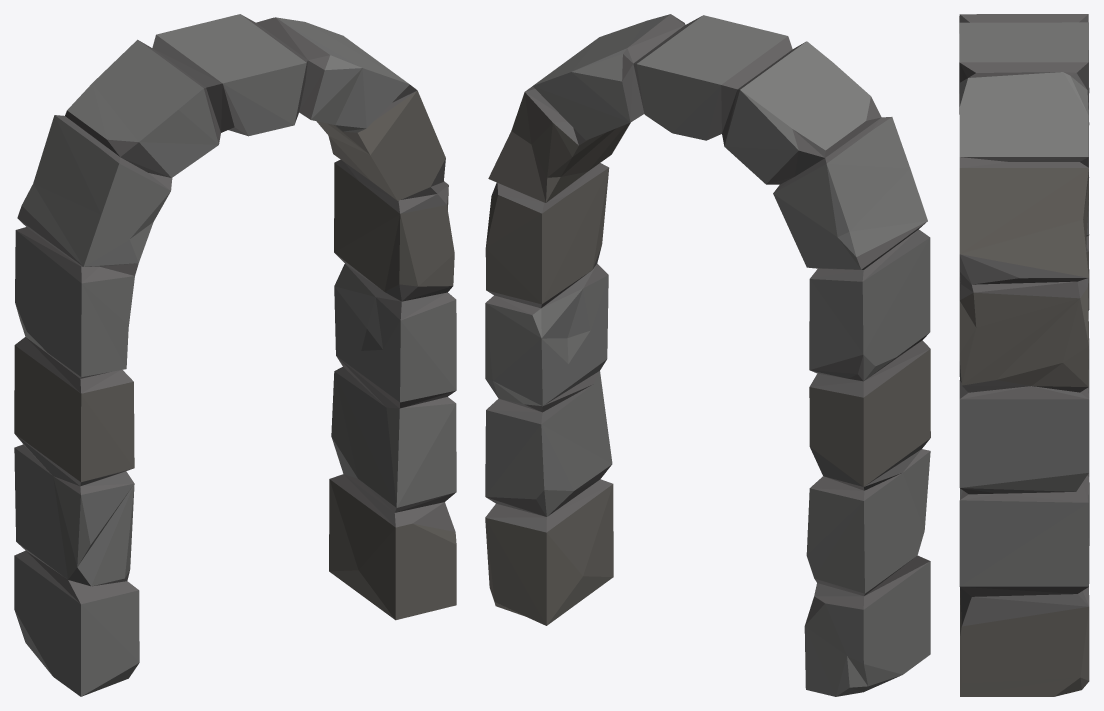
Rendered from SM_Env_Door_Frame_Round_01.FBX.
3 views of the same model, side by side, from view 1: azimuth 30°, elevation 25°; view 2: azimuth 150°, elevation 25°; view 3: azimuth 270°, elevation 25° (orthographic). The views are drawn at different scales.
Parts seen in each view (by area): view 1: SM_Env_Door_Frame_Round_01; view 2: SM_Env_Door_Frame_Round_01; view 3: SM_Env_Door_Frame_Round_01.
Boxes of the visible parts, bbox=[...] form: SM_Env_Door_Frame_Round_01: bbox=[14, 14, 456, 696]; SM_Env_Door_Frame_Round_01: bbox=[485, 14, 930, 696]; SM_Env_Door_Frame_Round_01: bbox=[959, 14, 1089, 696].
Size of what is drawn, in the model's own units: 185 by 57.19 by 274.
